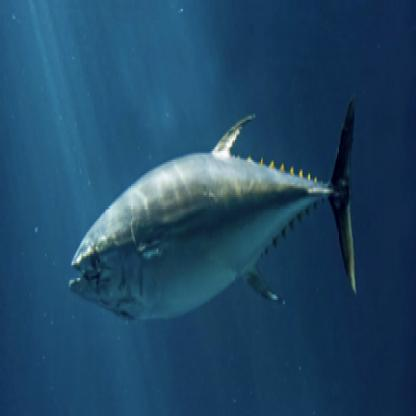Scombridae -Tunas-: (66, 89, 362, 325)
